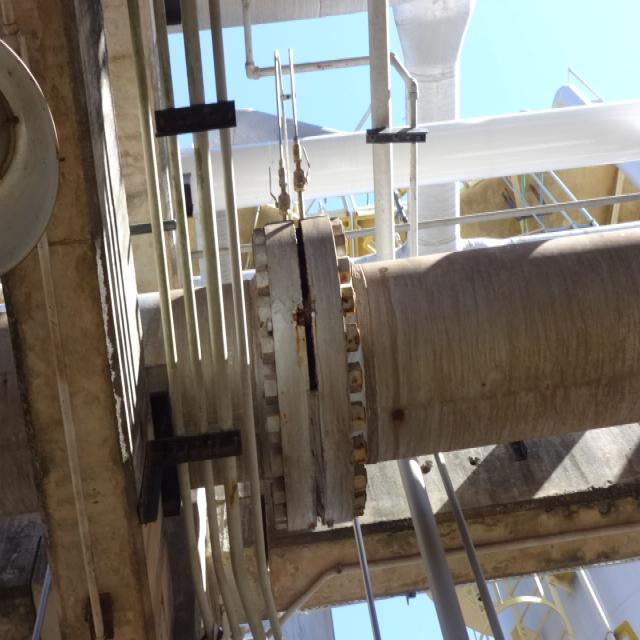gas: (142, 228, 639, 483), (187, 100, 640, 214), (393, 3, 471, 248), (397, 457, 469, 640)
